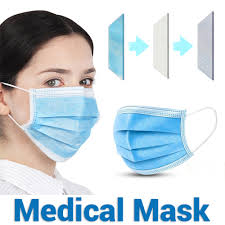mask: (15, 38, 101, 164)
